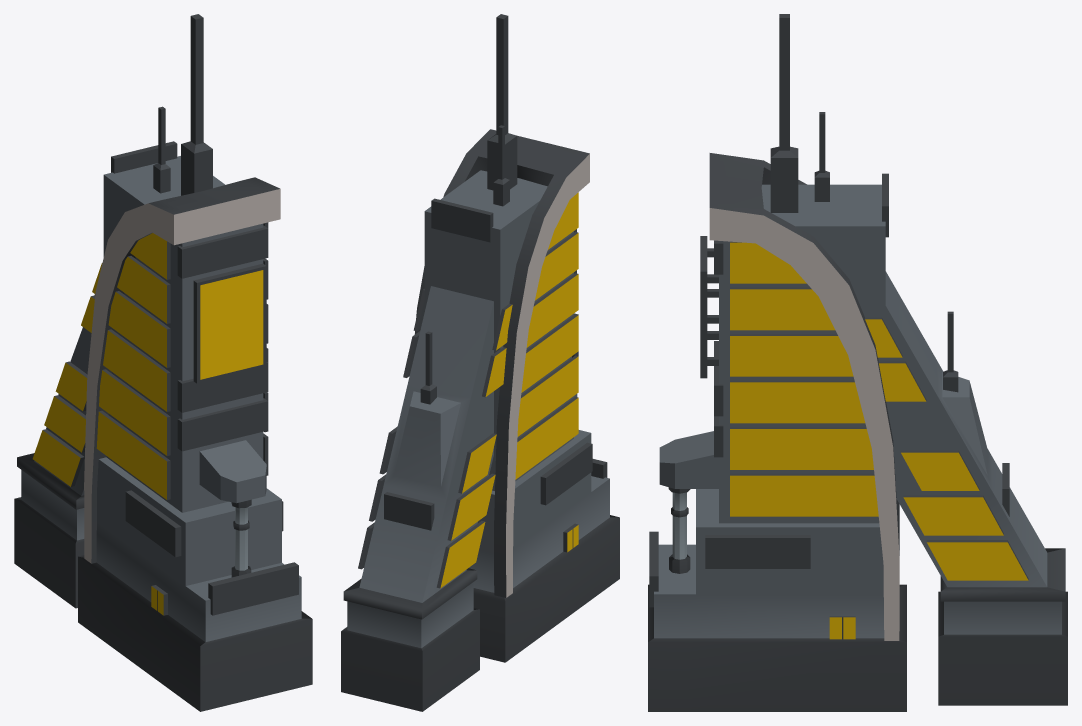
Rendered from cyber_SM_Bld_Background_Building_03.gltf.
The picture shows the model from 3 angles, left to right: view 1: azimuth 30°, elevation 25°; view 2: azimuth 150°, elevation 25°; view 3: azimuth 270°, elevation 25°; orthographic projection. The views are drawn at different scales.
Parts seen in each view (by area): view 1: SM_Bld_Background_Building_03; view 2: SM_Bld_Background_Building_03; view 3: SM_Bld_Background_Building_03.
Part boxes in pixels (x1=…): SM_Bld_Background_Building_03: x1=14, y1=14, x2=312, y2=711; SM_Bld_Background_Building_03: x1=341, y1=14, x2=619, y2=711; SM_Bld_Background_Building_03: x1=648, y1=14, x2=1067, y2=711.
Size of the model in its own units: 13.1 by 70.65 by 40.13.
Materials: 1 (1 with a texture image).
